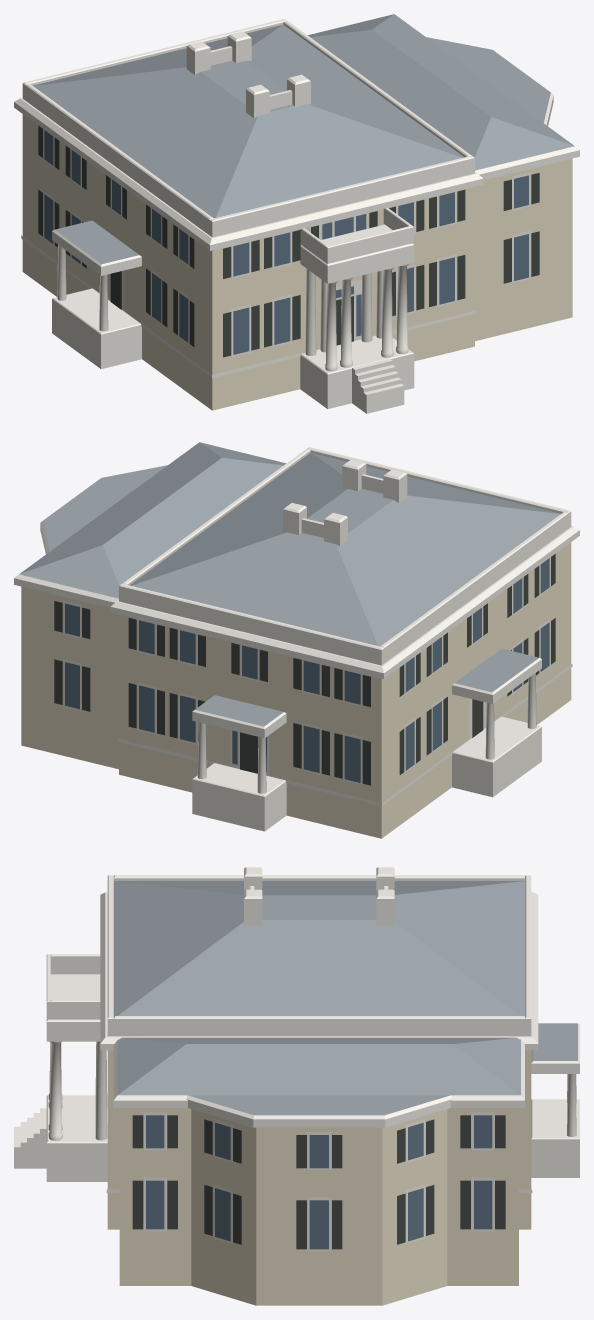
File: ric-executive-mansion.glb
The picture shows the model from 3 angles, top to bottom: view 1: azimuth 30°, elevation 25°; view 2: azimuth 150°, elevation 25°; view 3: azimuth 270°, elevation 25°; orthographic projection. The views are drawn at different scales.
Visible parts, largest first — view 1: Virginia Executive Mansion; view 2: Virginia Executive Mansion; view 3: Virginia Executive Mansion.
Boxes of the visible parts, left/top/right/bottom form: Virginia Executive Mansion: left=14, top=14, right=579, bottom=413; Virginia Executive Mansion: left=14, top=442, right=579, bottom=838; Virginia Executive Mansion: left=14, top=867, right=579, bottom=1305.
Size of the model in its own units: 28.4 by 15 by 27.84.
